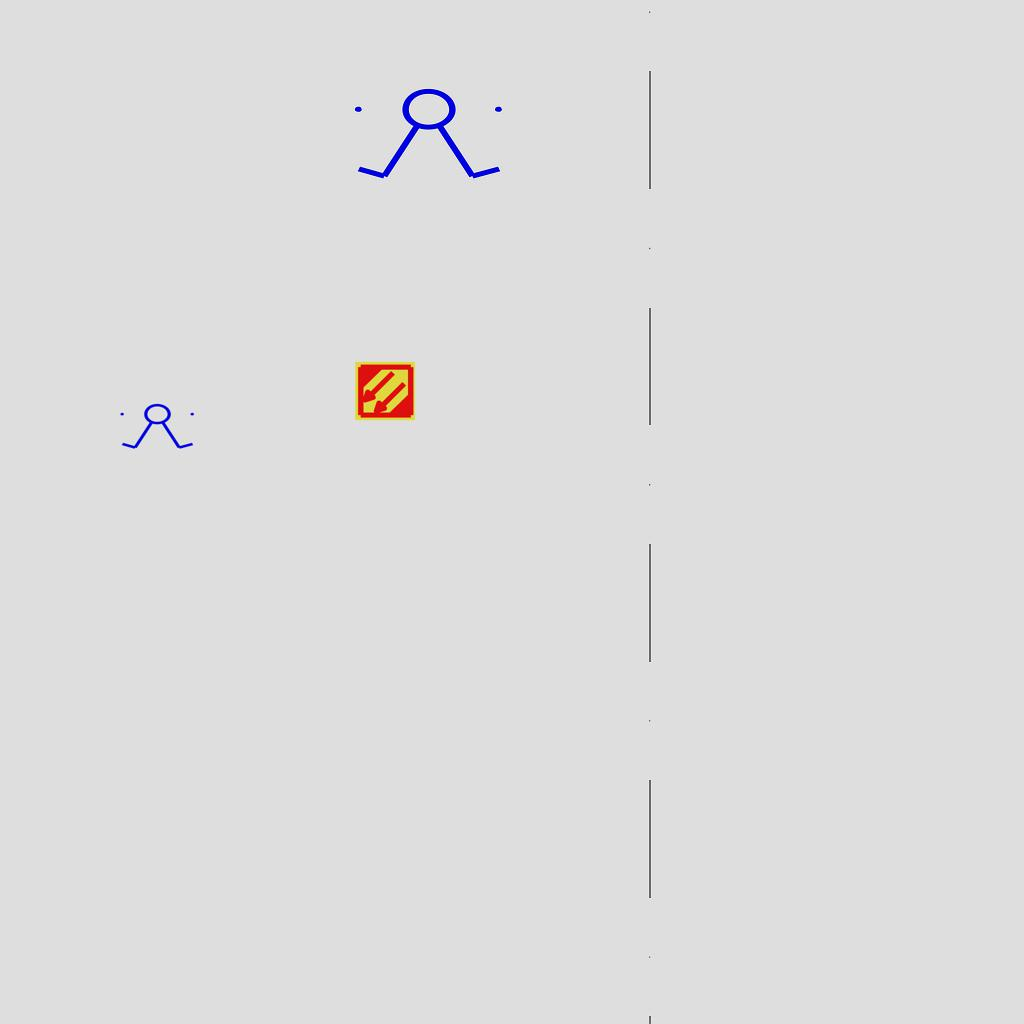ASR_Ansaugrauchmelder: (354, 360, 416, 422)
Serienschalter: (346, 87, 514, 183), (116, 403, 200, 451)
